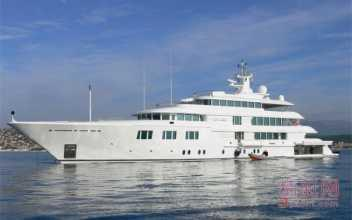yacht: (10, 74, 345, 166)
